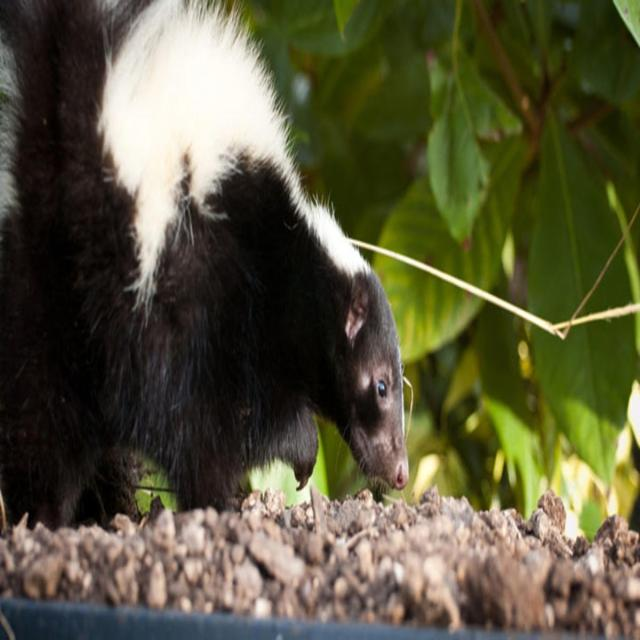Skunk: (0, 0, 422, 517)
